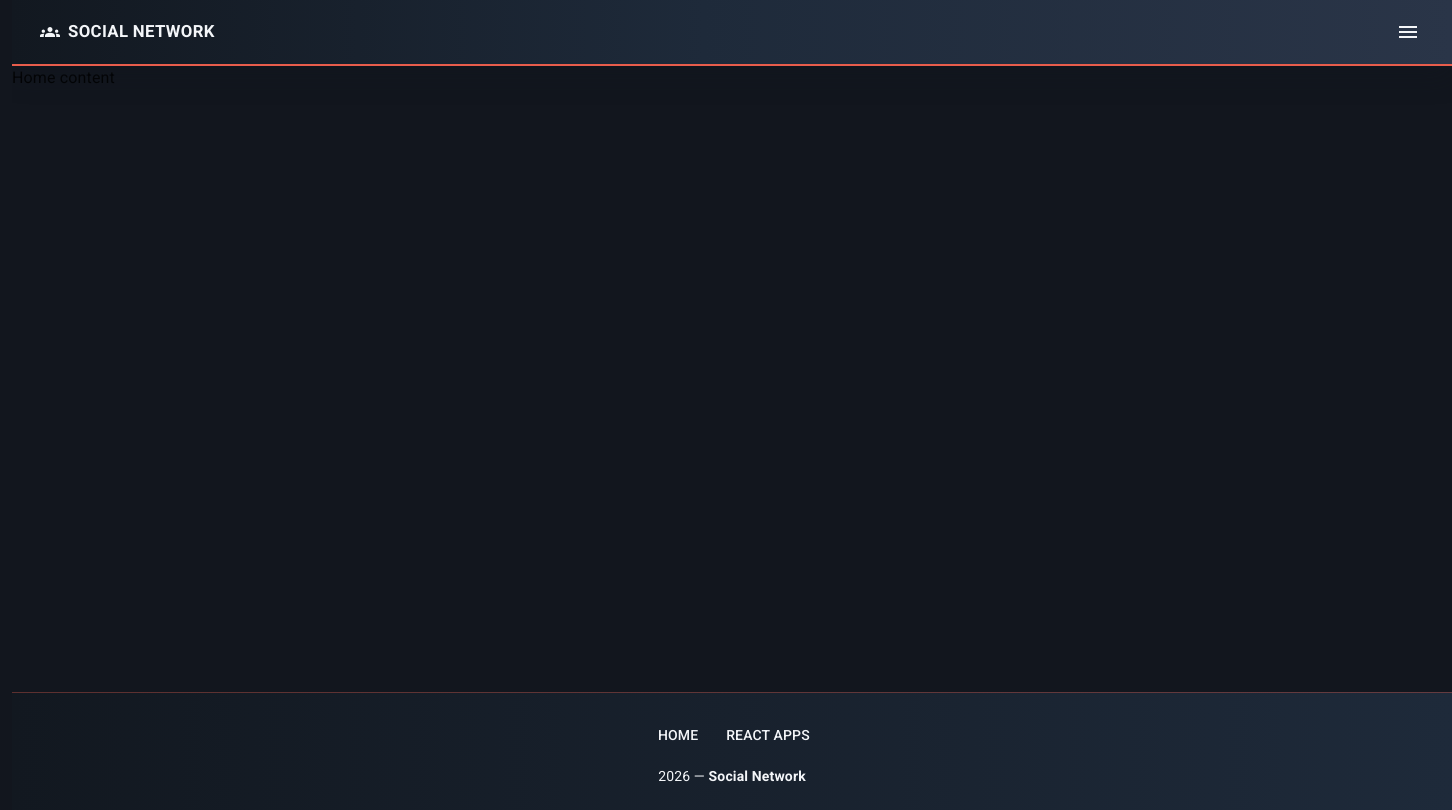
Test: MainSocialLayout › hides mobile profile link when authenticated user has no slug
Click the button named "Open menu".
click(1408, 32)  # box [1388,12,1428,52]
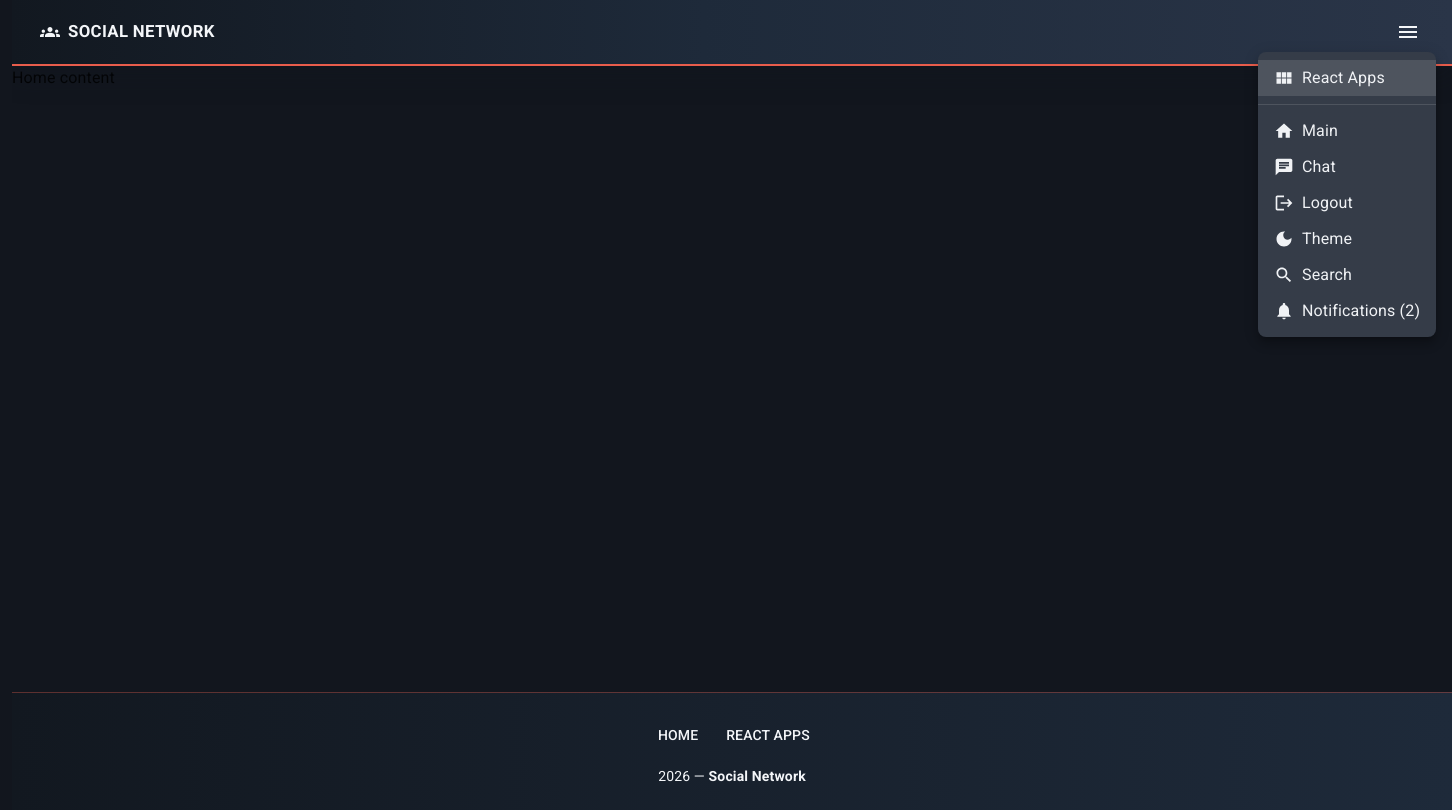
Expected: the menu item "Notifications (2)" is shown, [1274,301,1420,321]
